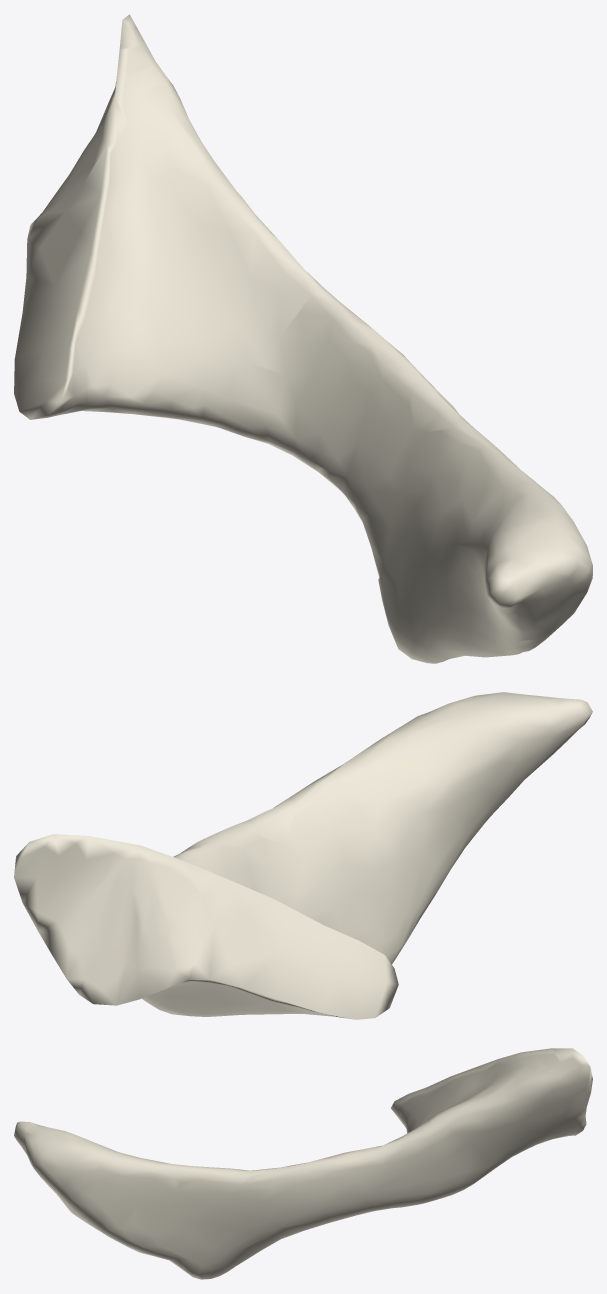
The model's file is fma52888_mm1004.glb.
The picture shows the model from 3 angles, top to bottom: view 1: azimuth 30°, elevation 25°; view 2: azimuth 150°, elevation 25°; view 3: azimuth 270°, elevation 25°; orthographic projection. The views are drawn at different scales.
Visible parts, largest first — view 1: FMA52888_MM1004; view 2: FMA52888_MM1004; view 3: FMA52888_MM1004.
Part boxes in pixels (x1=…): FMA52888_MM1004: x1=14, y1=14, x2=592, y2=663; FMA52888_MM1004: x1=14, y1=692, x2=592, y2=1019; FMA52888_MM1004: x1=14, y1=1048, x2=592, y2=1279.
Bounding box in the file's own units: 0.0136 × 0.0174 × 0.0399.
